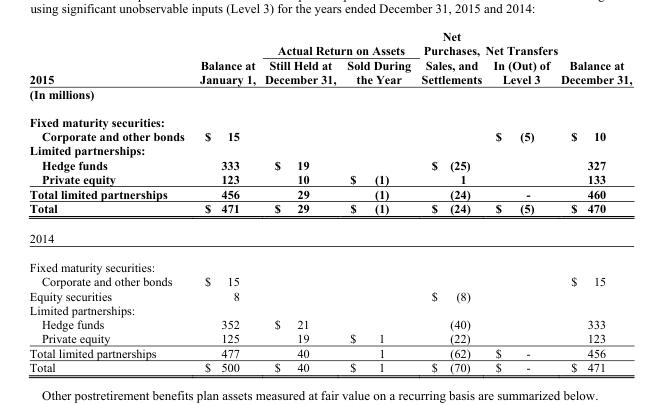table: (28, 29, 631, 374)
table column: (28, 29, 191, 374), (259, 29, 340, 374), (482, 29, 558, 374), (340, 29, 415, 374), (558, 29, 631, 374), (191, 29, 259, 374), (415, 29, 482, 374)
table column header: (28, 29, 631, 72)
table projected row header: (28, 223, 631, 252), (28, 86, 631, 108), (28, 252, 631, 274), (28, 108, 631, 129), (28, 143, 631, 157), (28, 302, 631, 316)
table row: (28, 223, 631, 252), (28, 29, 631, 57), (28, 200, 631, 223), (28, 86, 631, 108), (28, 252, 631, 274), (28, 108, 631, 129), (28, 57, 631, 72), (28, 185, 631, 200), (28, 330, 631, 345), (28, 359, 631, 374), (28, 72, 631, 86), (28, 129, 631, 143), (28, 143, 631, 157), (28, 157, 631, 171), (28, 171, 631, 185), (28, 274, 631, 288), (28, 288, 631, 302), (28, 302, 631, 316), (28, 316, 631, 330), (28, 345, 631, 359)
table spanning cell: (259, 29, 415, 57), (482, 29, 558, 72), (558, 29, 631, 72), (191, 29, 259, 72), (415, 29, 482, 72)
